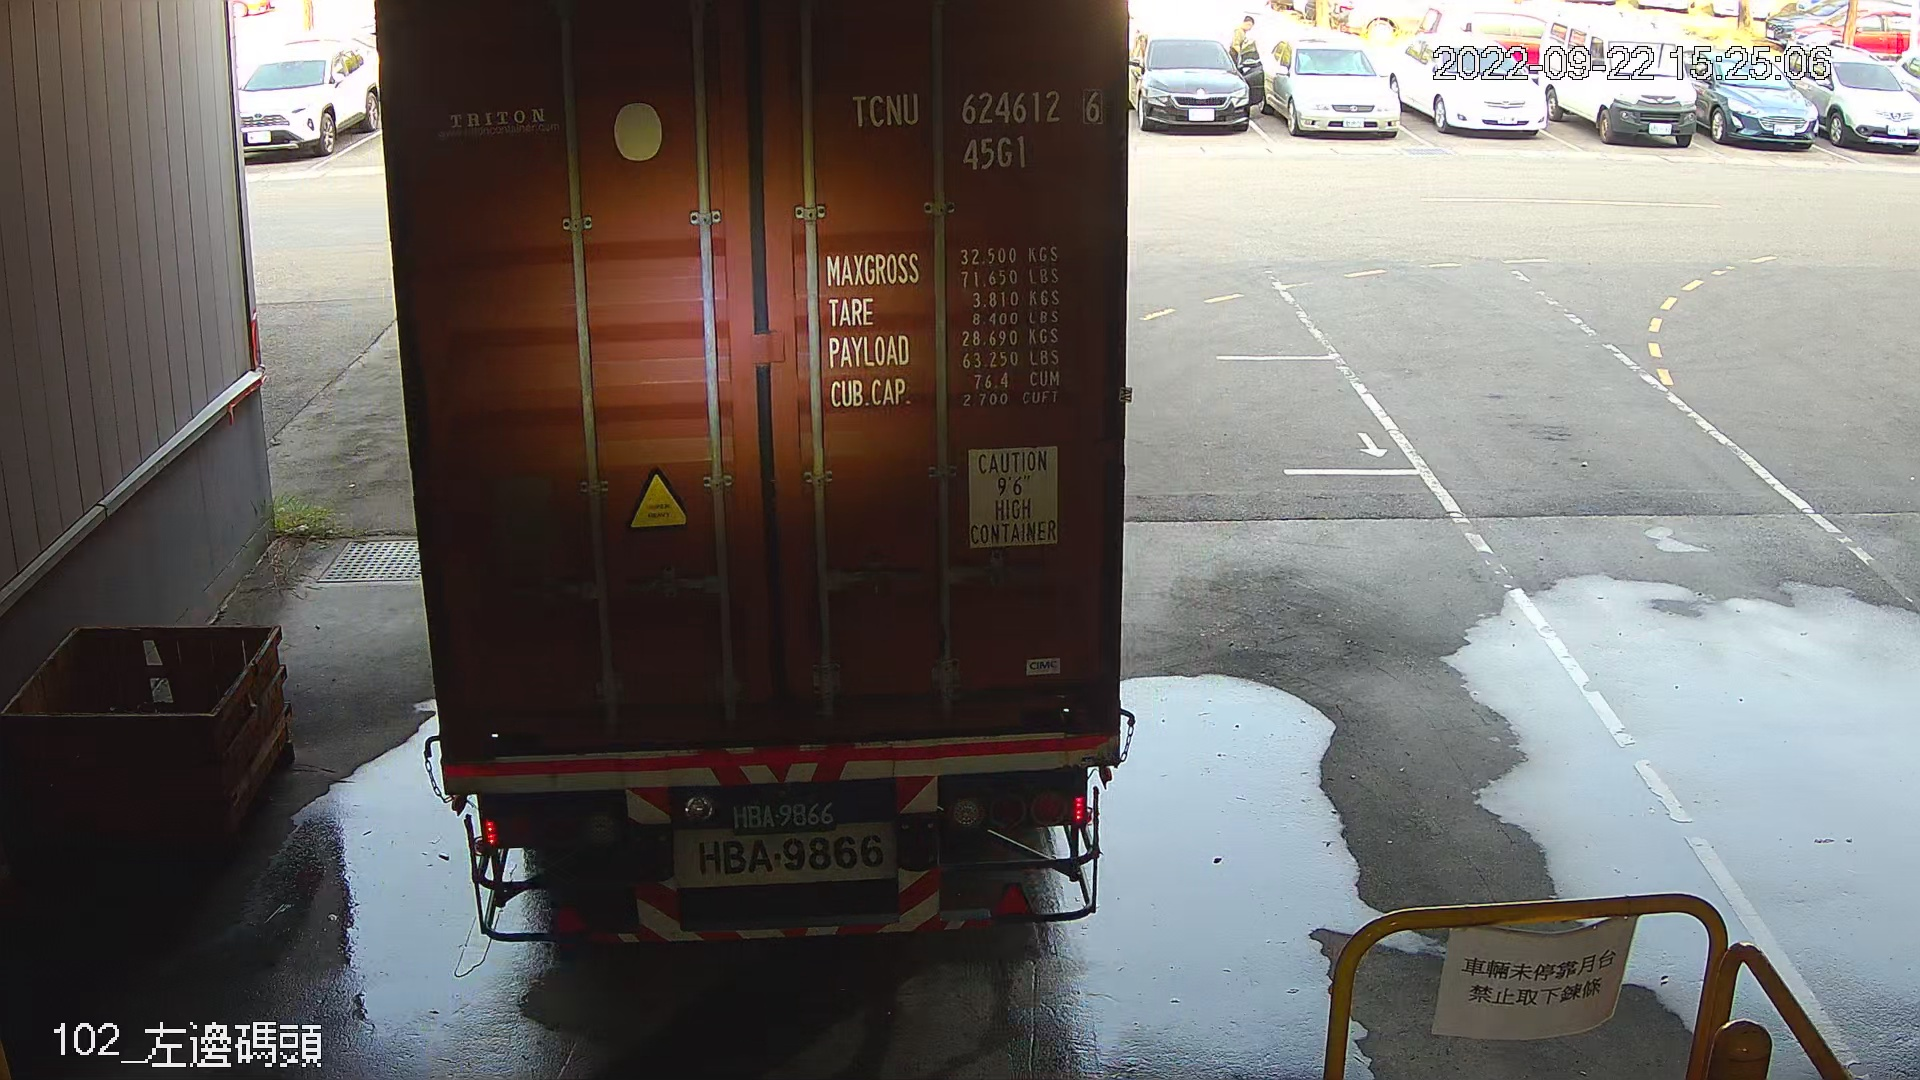container: (837, 76, 1116, 185)
